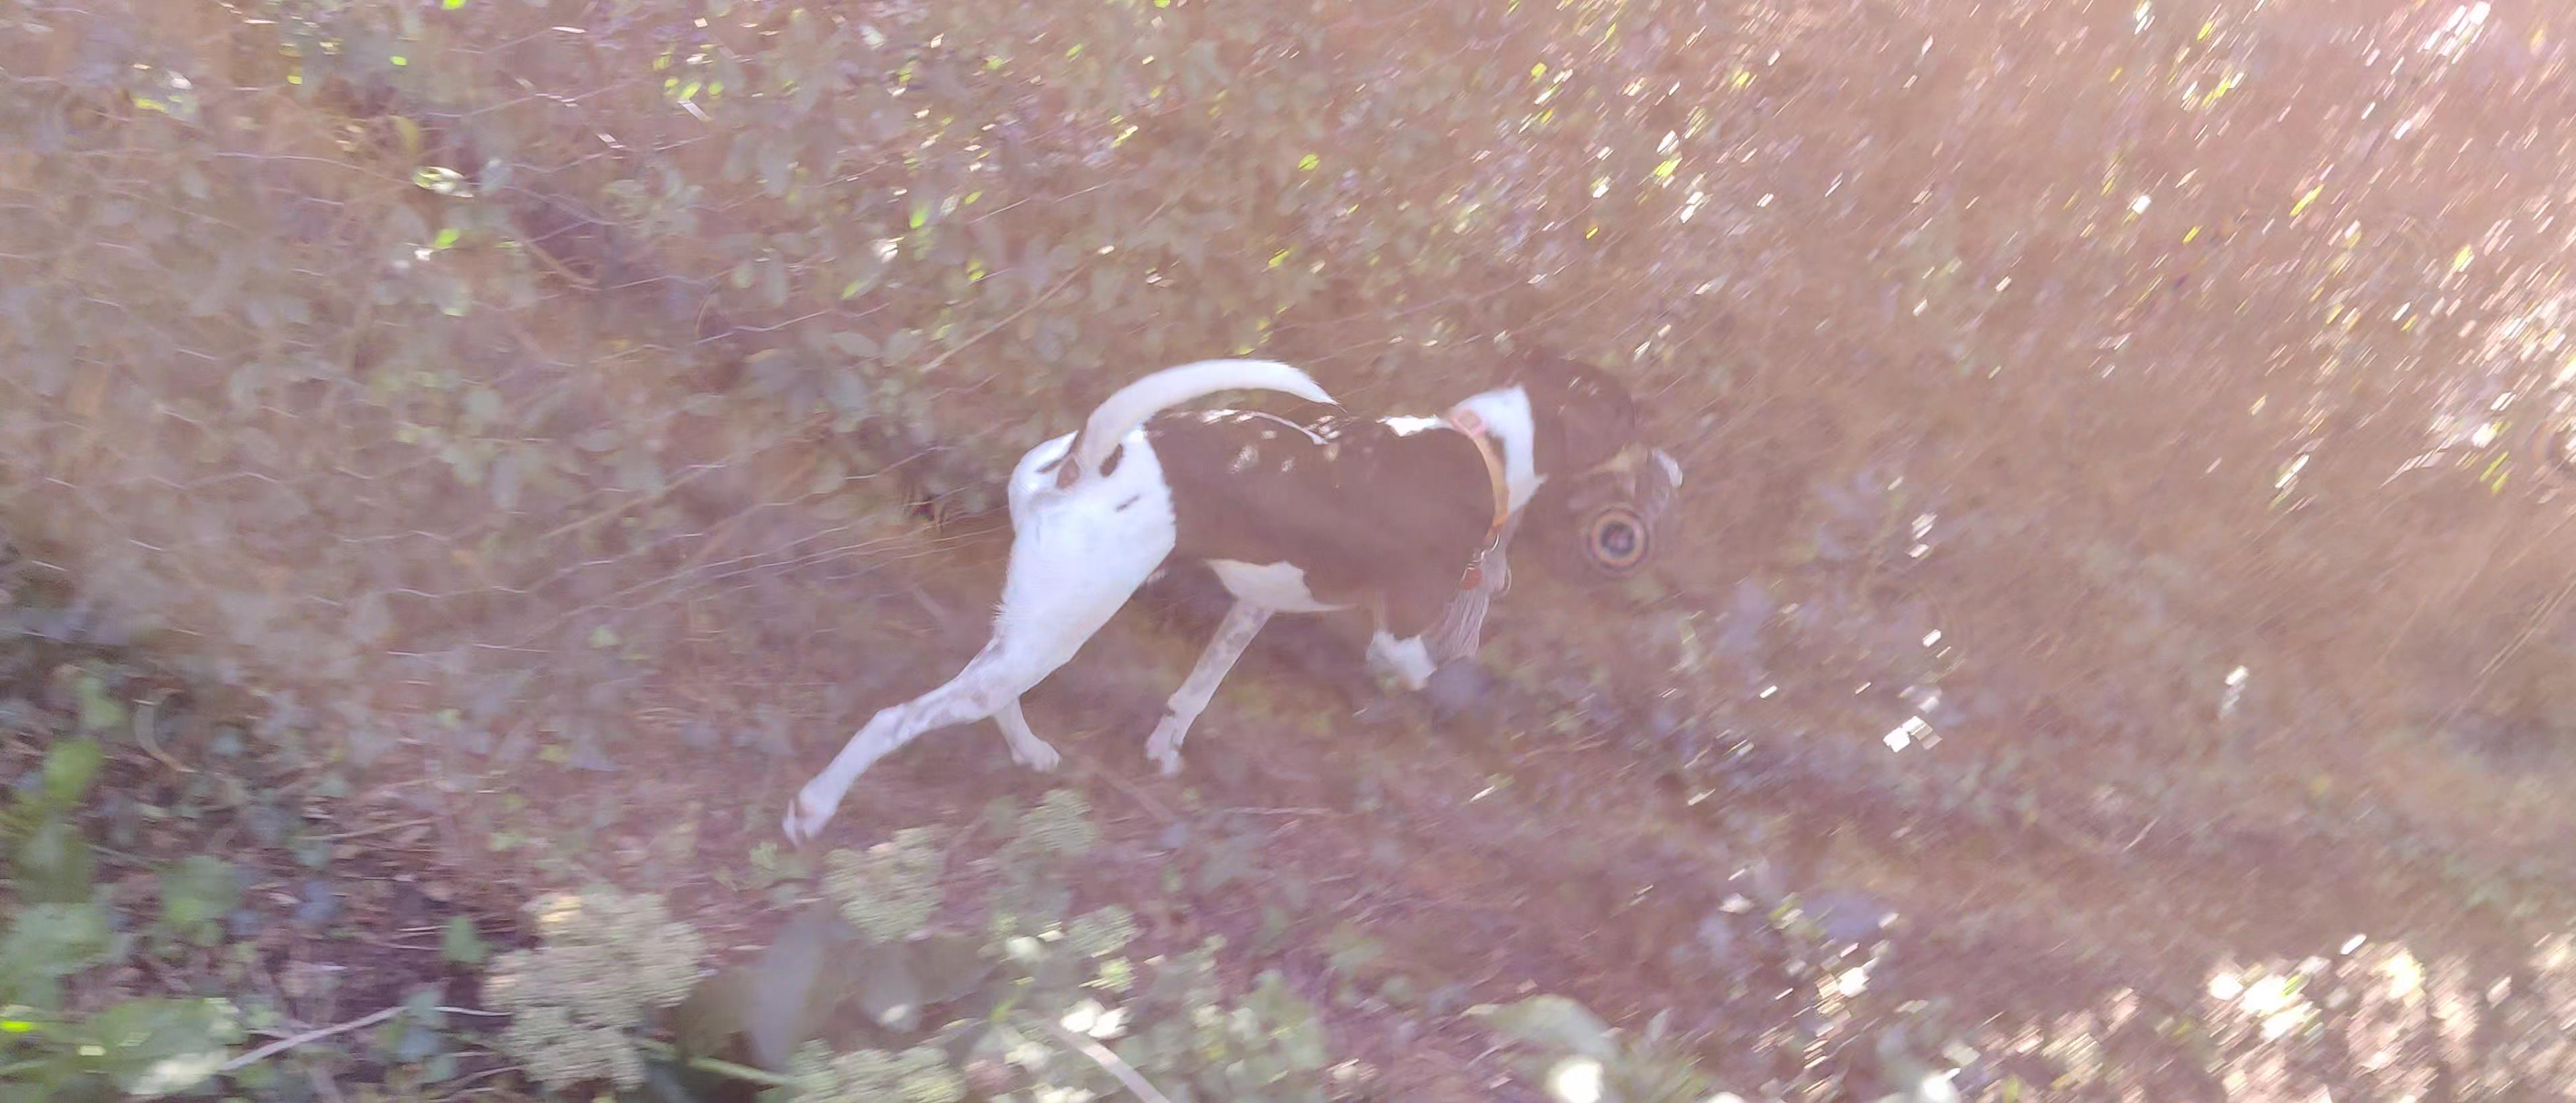Dog: (775, 342, 1654, 851)
